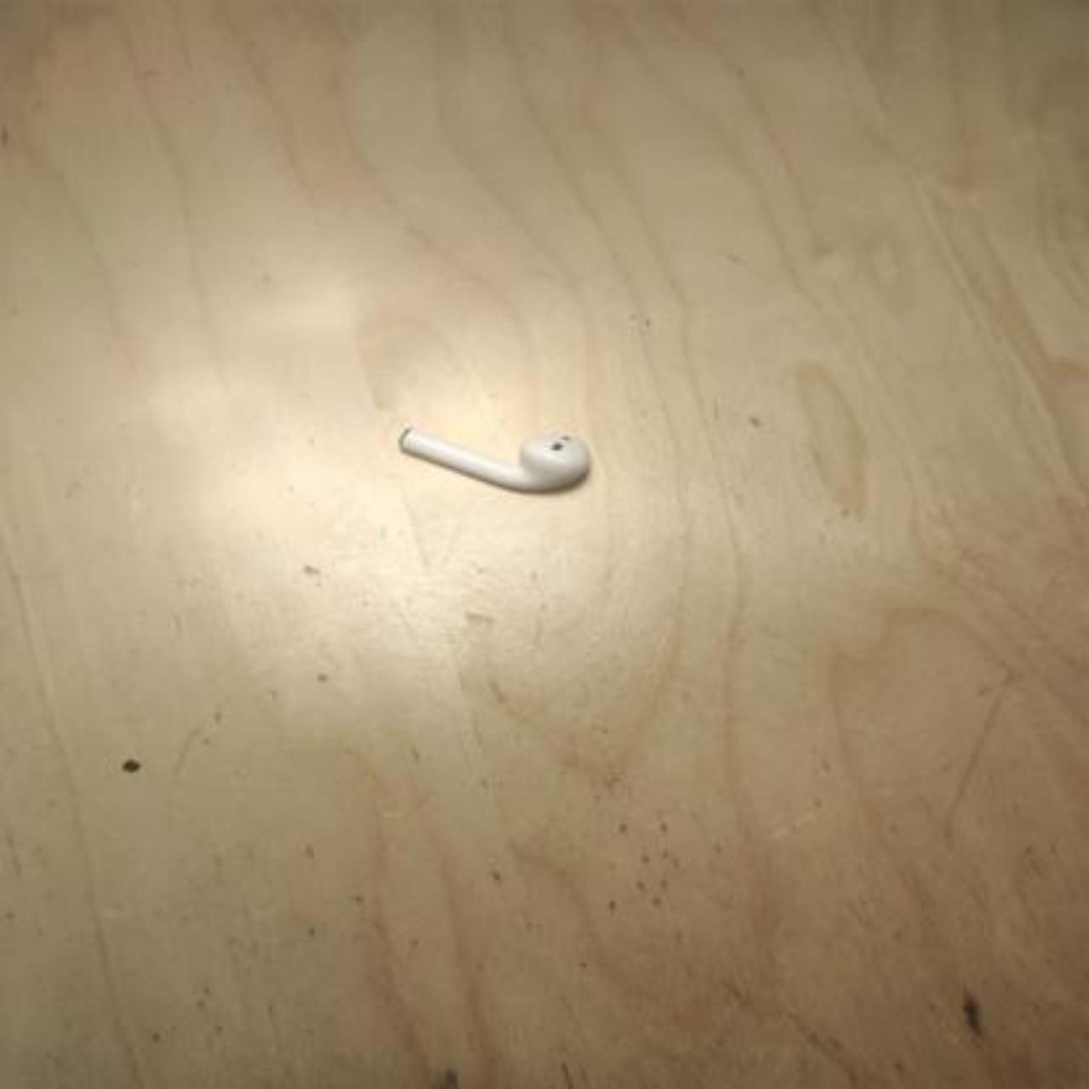Airpods_Units: (391, 424, 591, 495)
